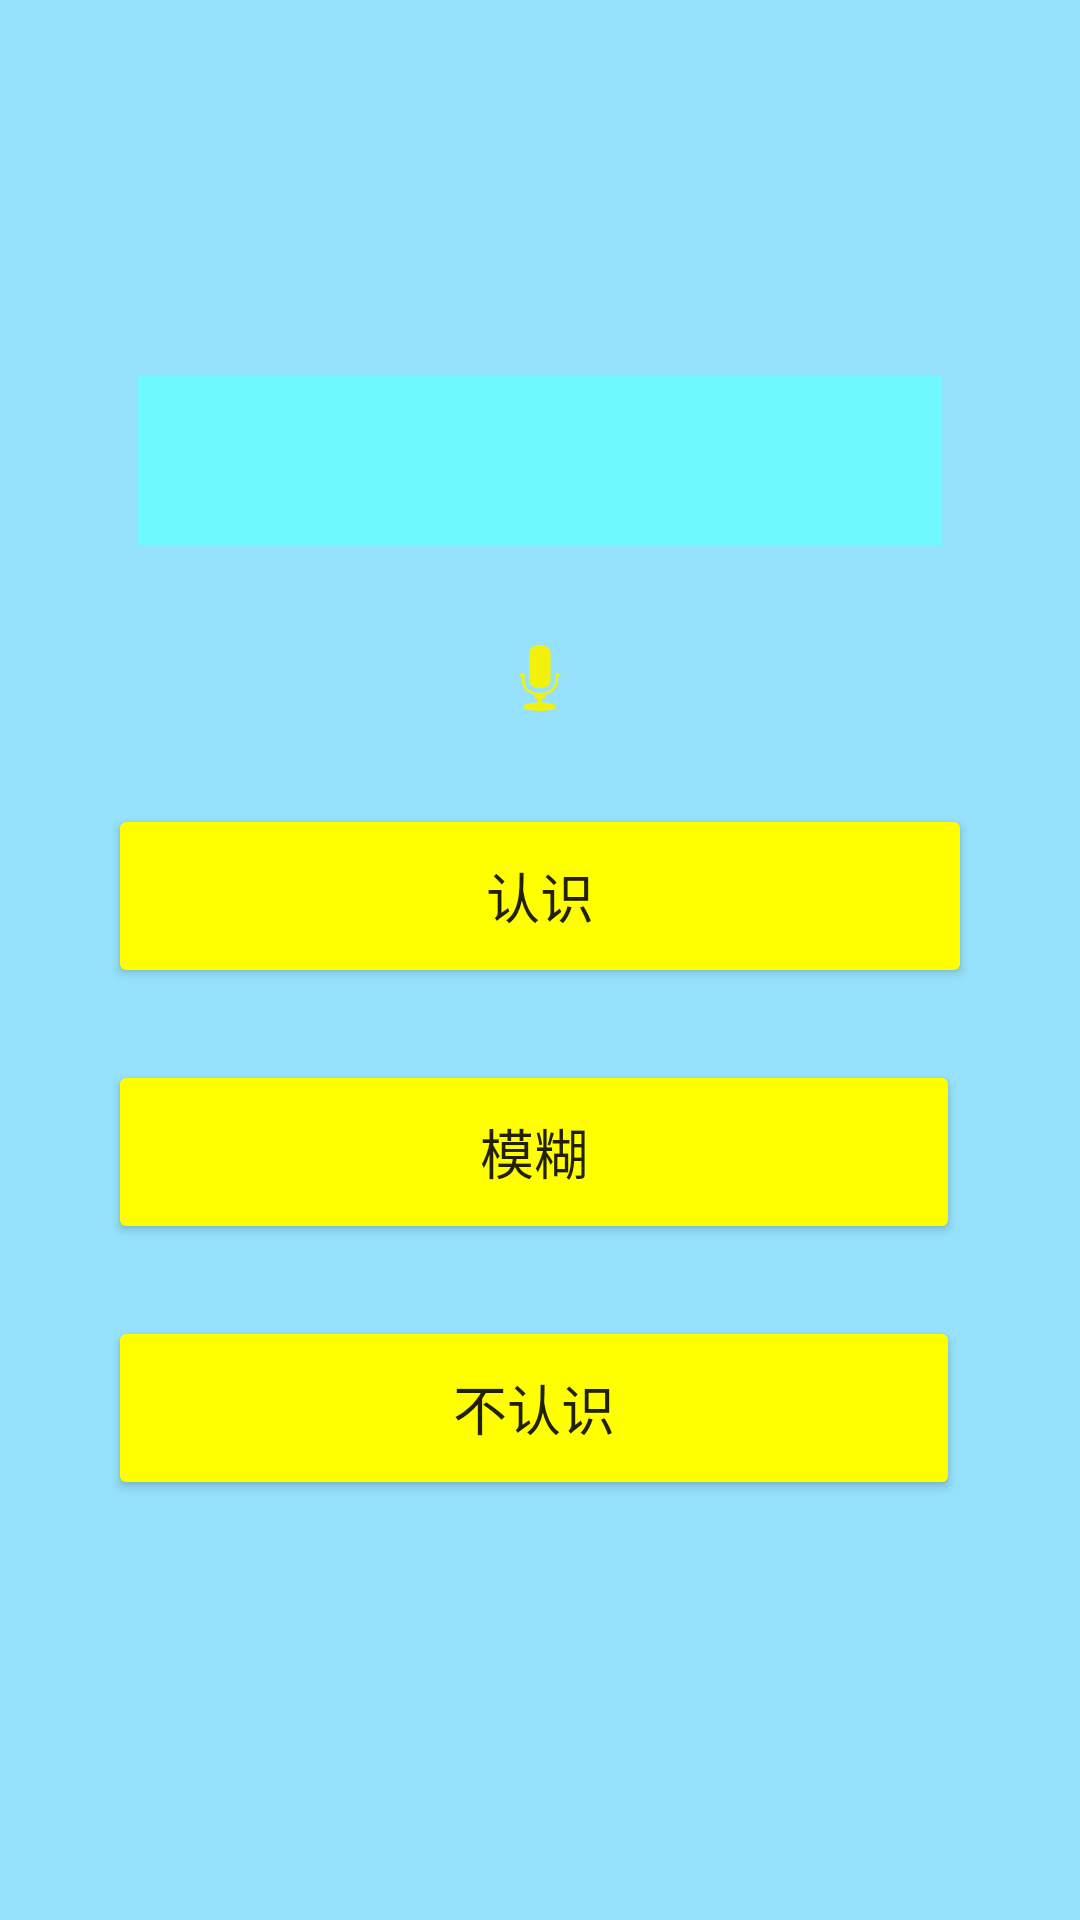

Icon click points for this 1080 × 1920 phone screenshot, format (x=x, y=y):
speak now: (x=540, y=678)
